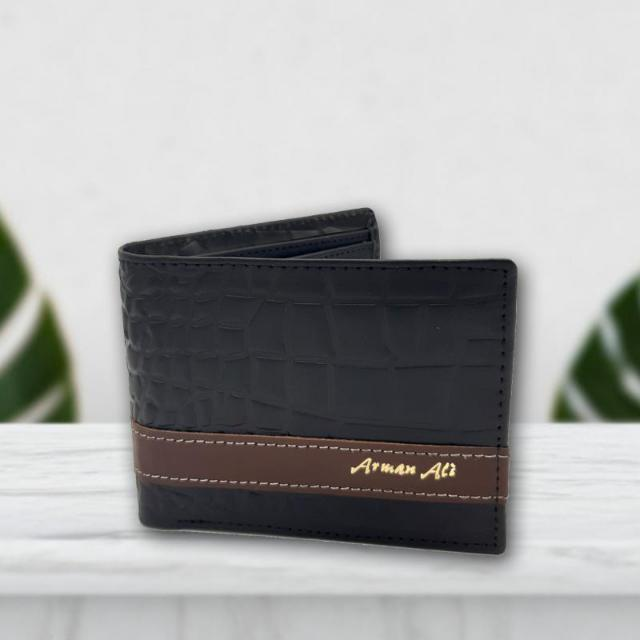wallet: (116, 206, 516, 566)
